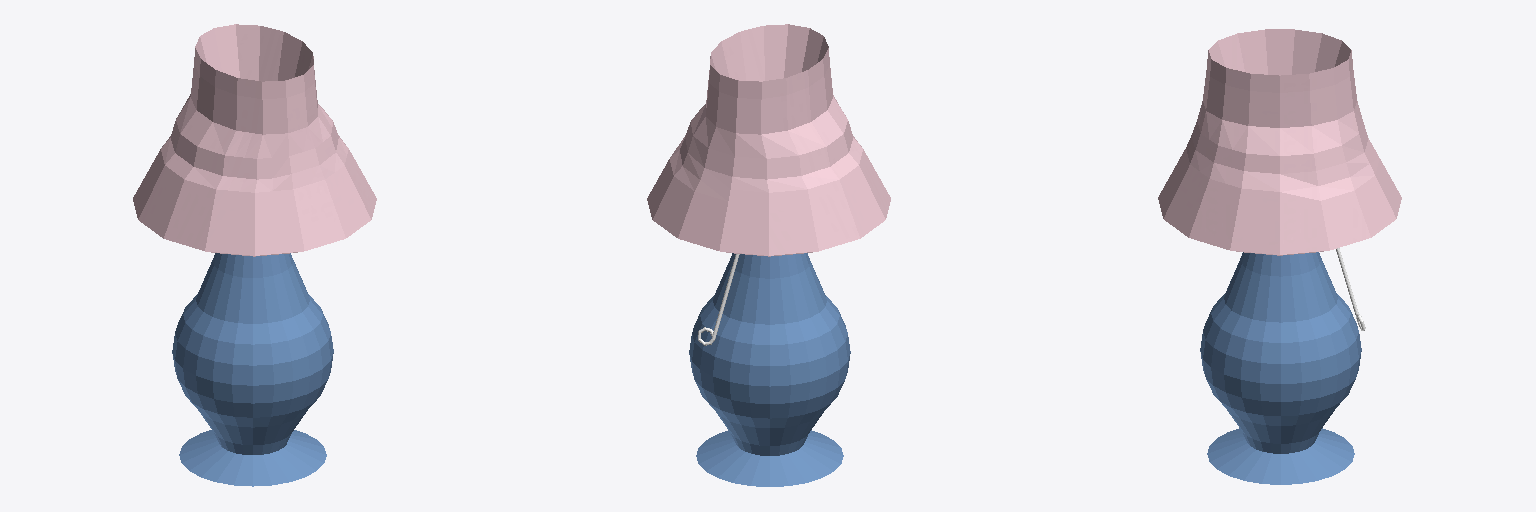
The picture shows the model from 3 angles: view 1: azimuth 30°, elevation 25°; view 2: azimuth 150°, elevation 25°; view 3: azimuth 270°, elevation 25°; orthographic projection.
Visible parts, largest first — view 1: Lampara_final:Lamp_Head, Lampara_final:Lamp_Body; view 2: Lampara_final:Lamp_Head, Lampara_final:Lamp_Body; view 3: Lampara_final:Lamp_Head, Lampara_final:Lamp_Body.
Part boxes in pixels (left/top/right/bottom): Lampara_final:Lamp_Head: left=133, top=24, right=376, bottom=256; Lampara_final:Lamp_Body: left=172, top=253, right=333, bottom=486; Lampara_final:Lamp_Head: left=647, top=24, right=890, bottom=256; Lampara_final:Lamp_Body: left=689, top=253, right=850, bottom=486; Lampara_final:Lamp_Head: left=1158, top=29, right=1401, bottom=255; Lampara_final:Lamp_Body: left=1200, top=252, right=1361, bottom=484.
Size of the model in its own units: 0.2885 by 0.5327 by 0.2901.
3 materials, 3 textured.